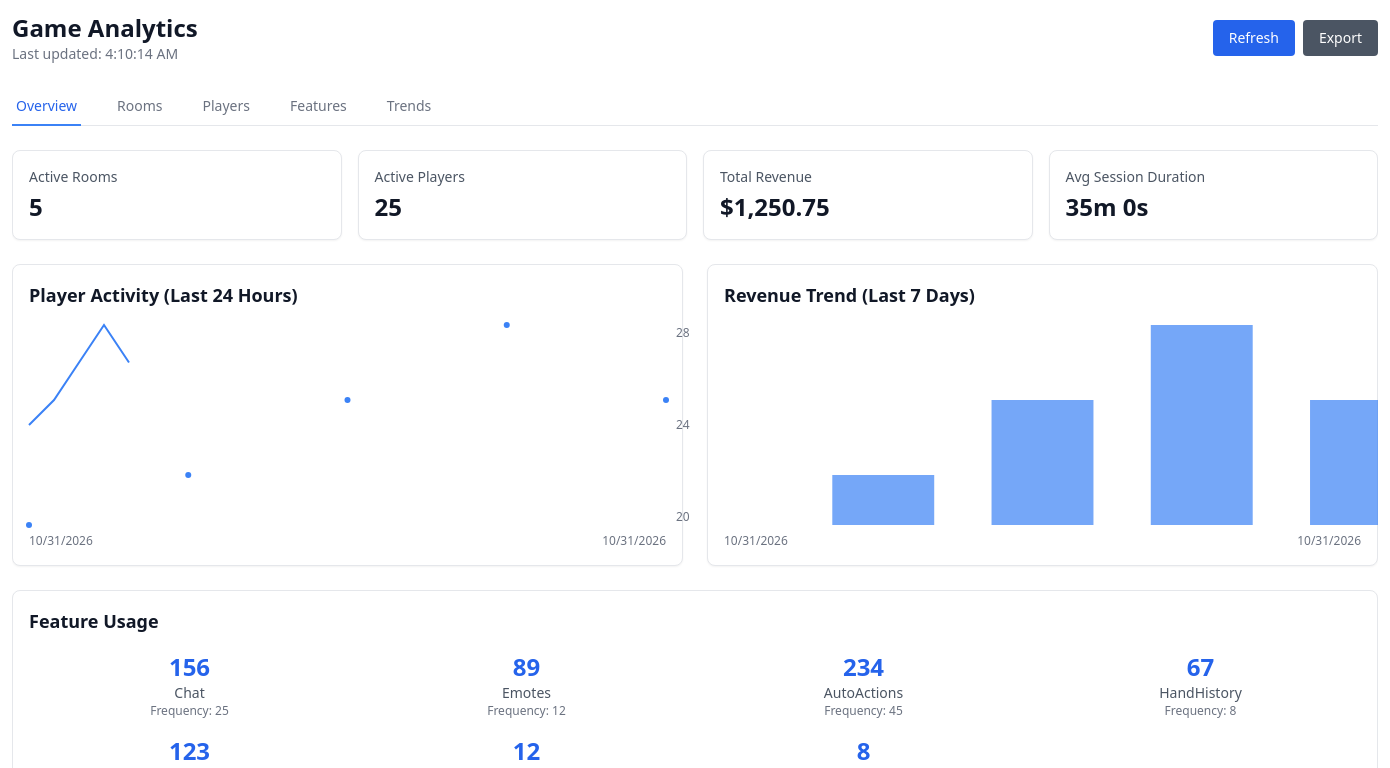
Test case: GameAnalyticsDashboard › Data Table Functionality › should show limited rows with pagination info
This screenshot has width=1390, height=768.
Click the button "Rooms" at (140, 107), box [113, 88, 167, 126]
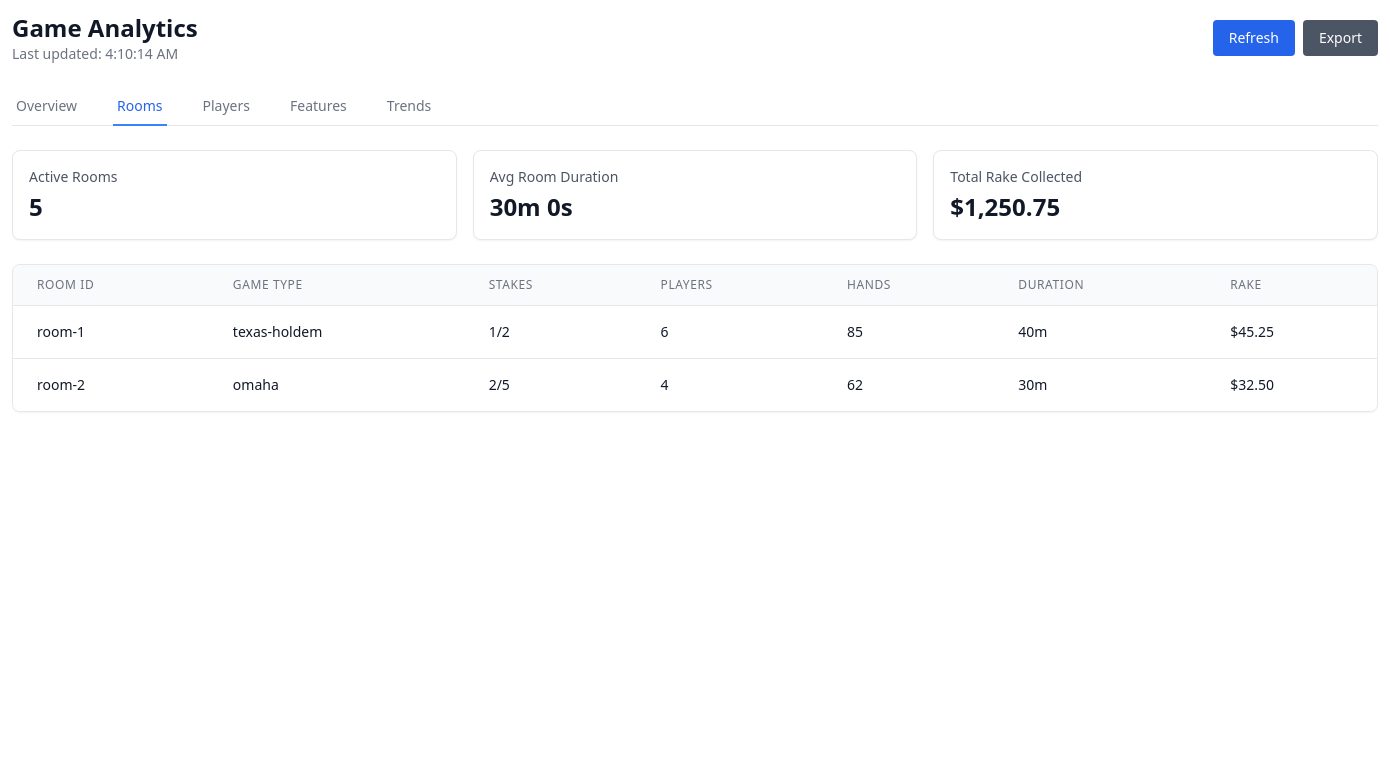
Now the text "room-1" is shown, box [13, 306, 209, 358]
Now the text "room-2" is shown, box [13, 358, 209, 411]
